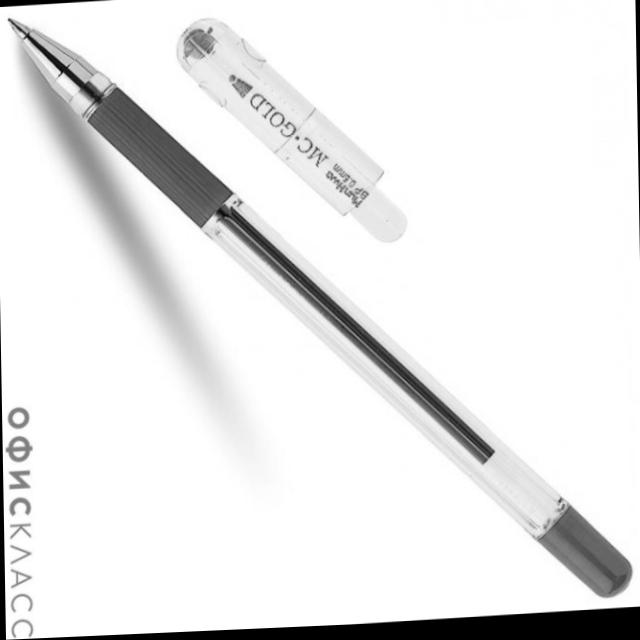pen: (9, 0, 637, 636)
